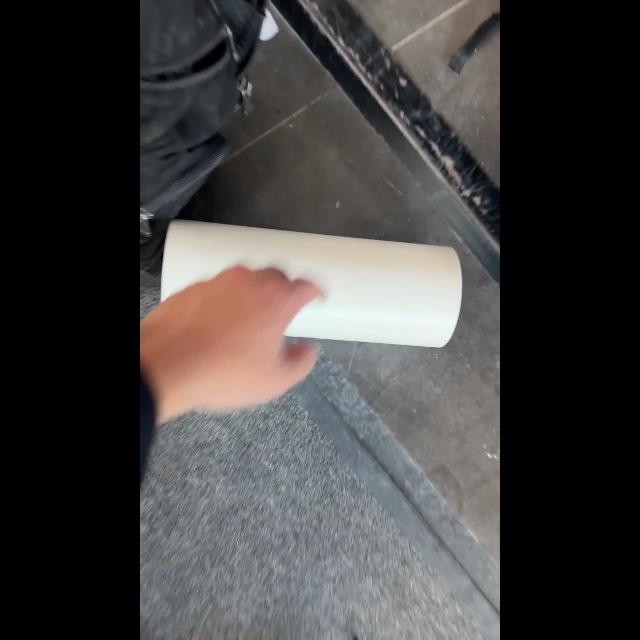CORAL: (159, 218, 463, 349)
